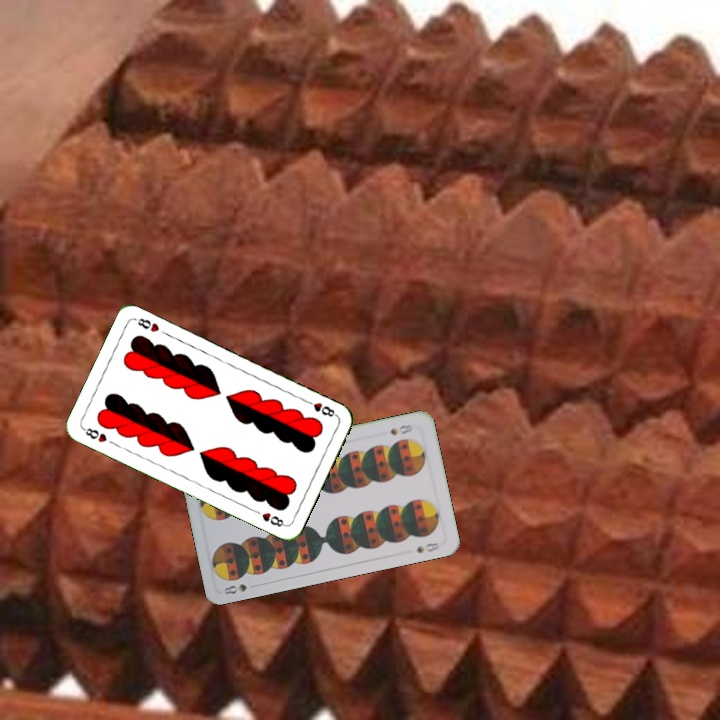H8: (301, 396, 340, 419), (79, 424, 110, 445)
S8: (219, 580, 260, 597), (386, 420, 415, 438)
